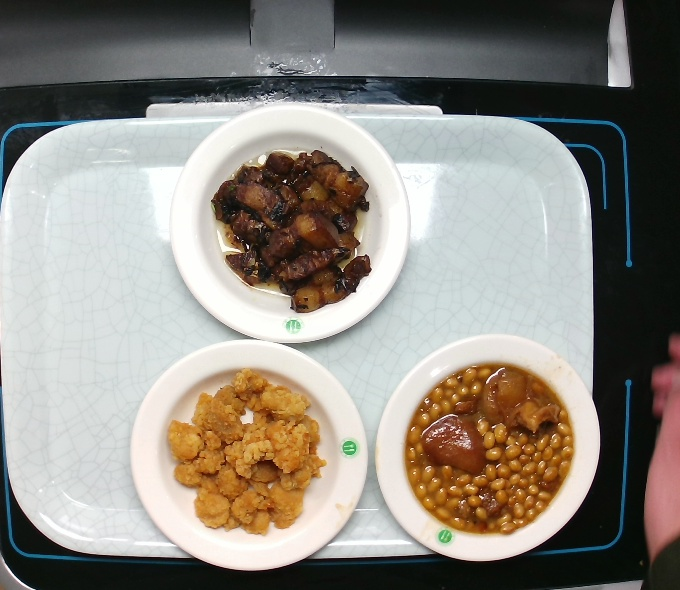wcq-GanCaiRou: (210, 149, 374, 314)
wcq-HuangDouZhuJiao: (401, 359, 577, 537)
wcq-JiMiHua: (163, 369, 324, 539)
